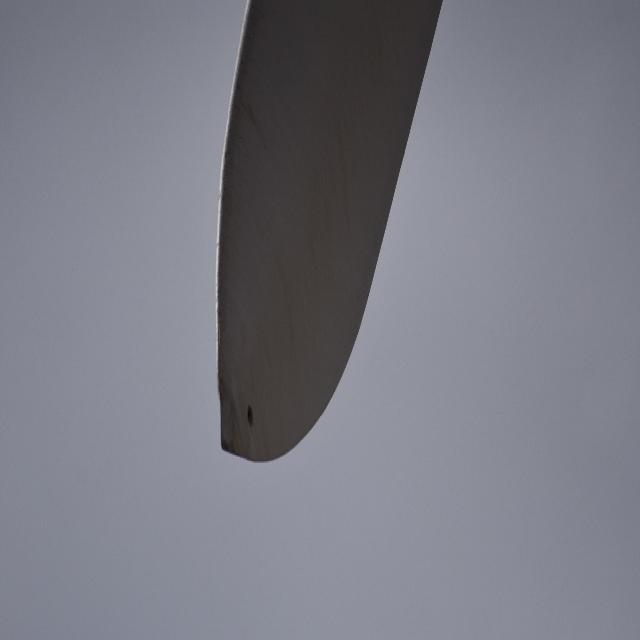Burn Mark: (245, 401, 256, 430)
